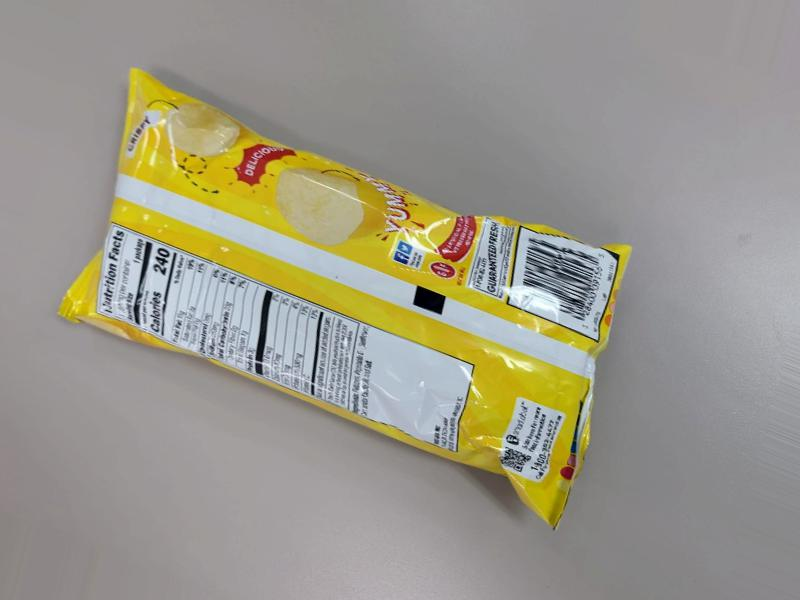lays: (126, 63, 576, 566)
